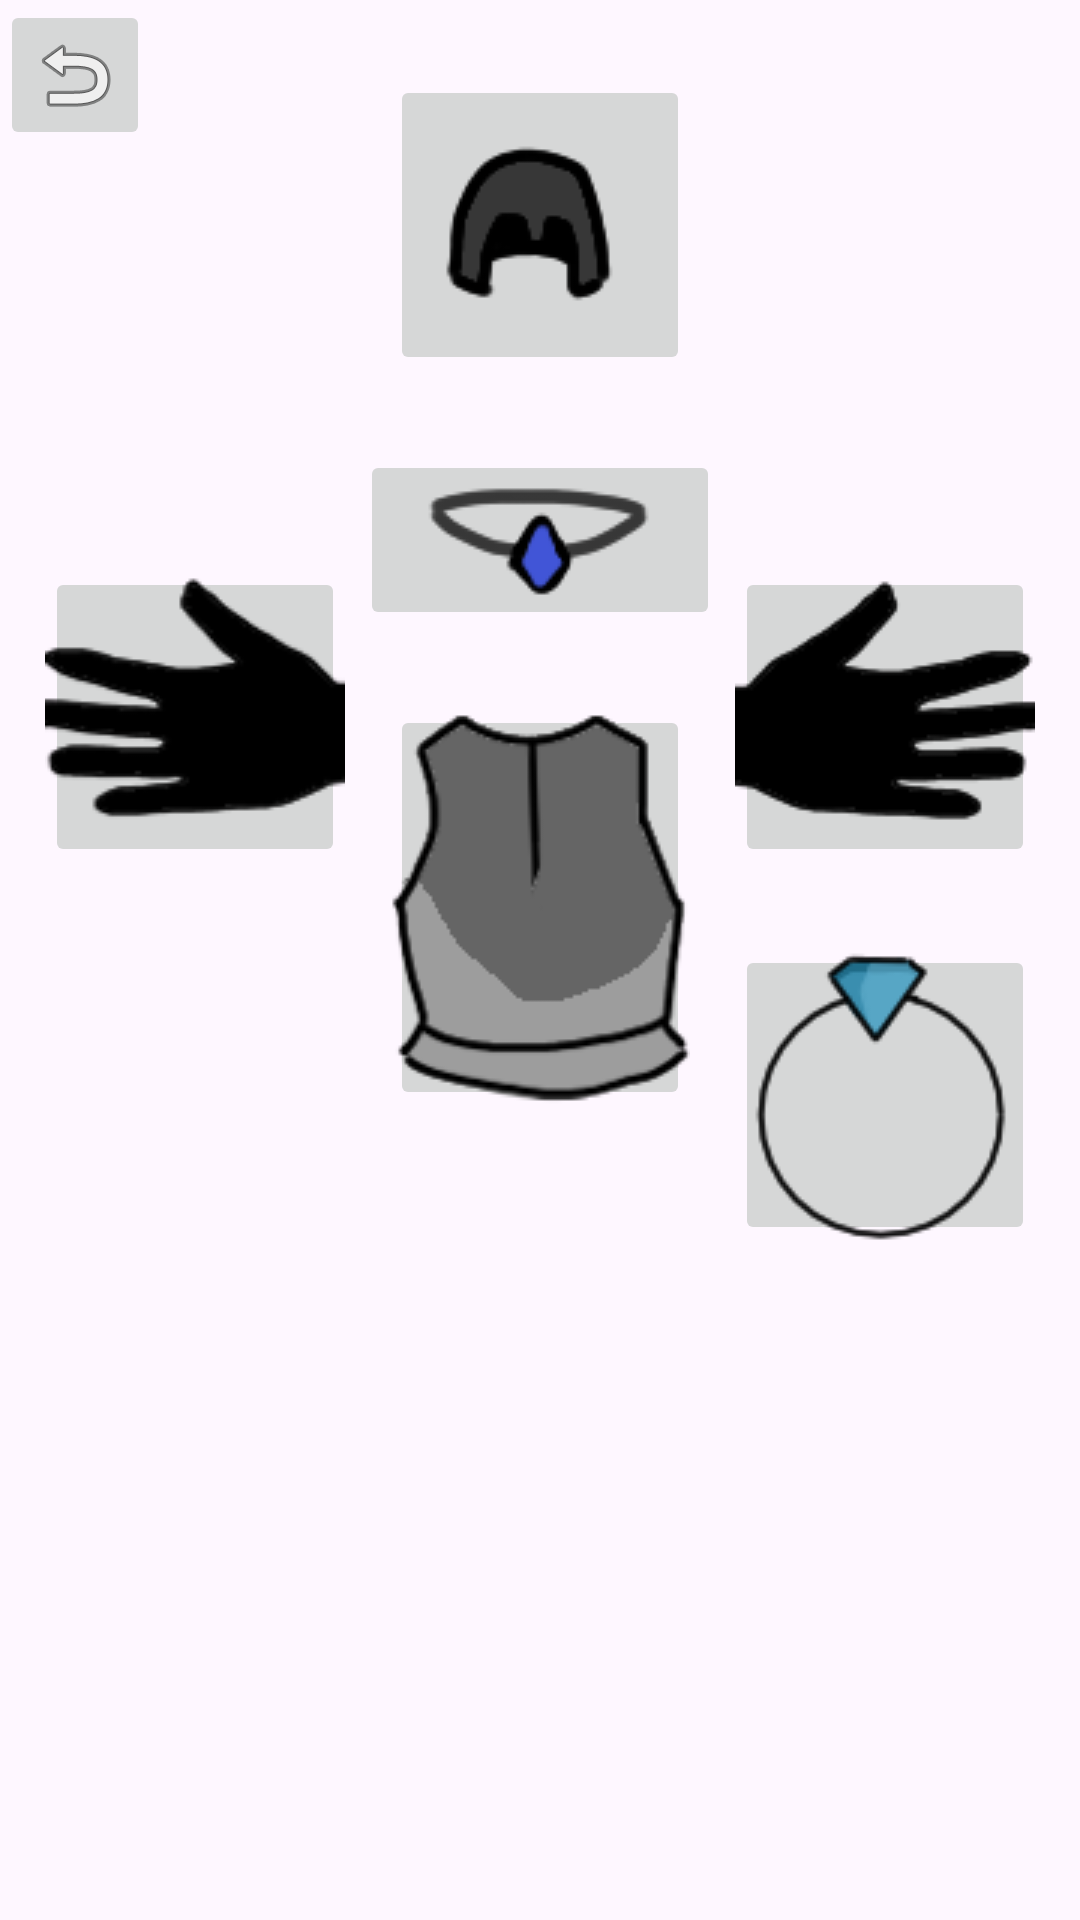

Point at icon controls on the screen. Image size 1080 x 1920, points as [x,y].
Go Back Button: [75,75]
Helmet Button: [540,225]
Neck Button: [540,540]
Ring Button: [885,1097]
